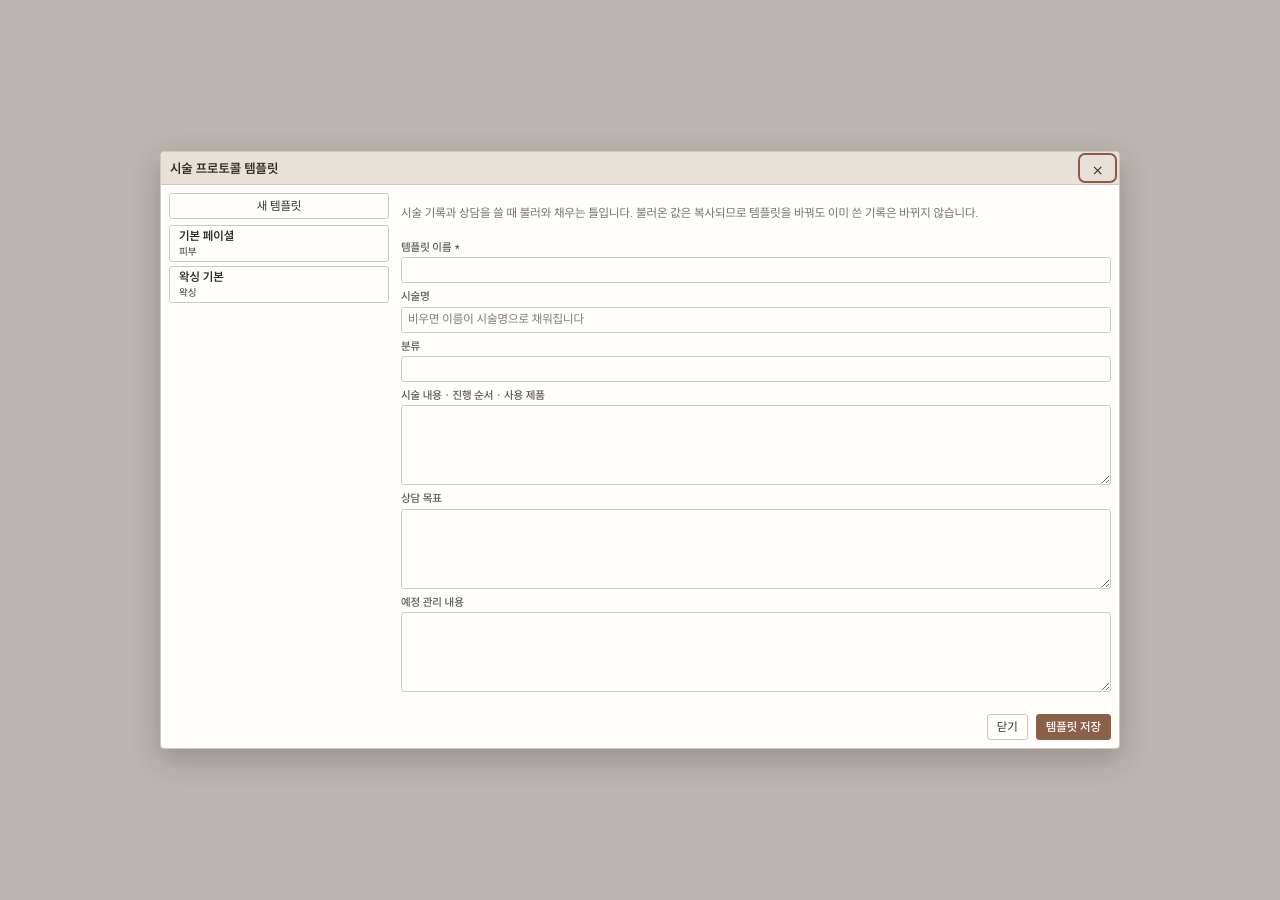
Scenario: TemplateManagerDialog (TRT-12) › 목록을 보여 주고 고르면 폼이 채워진다
Click the button "왁싱 기본 왁싱": x=279, y=284 [169,266,389,302]
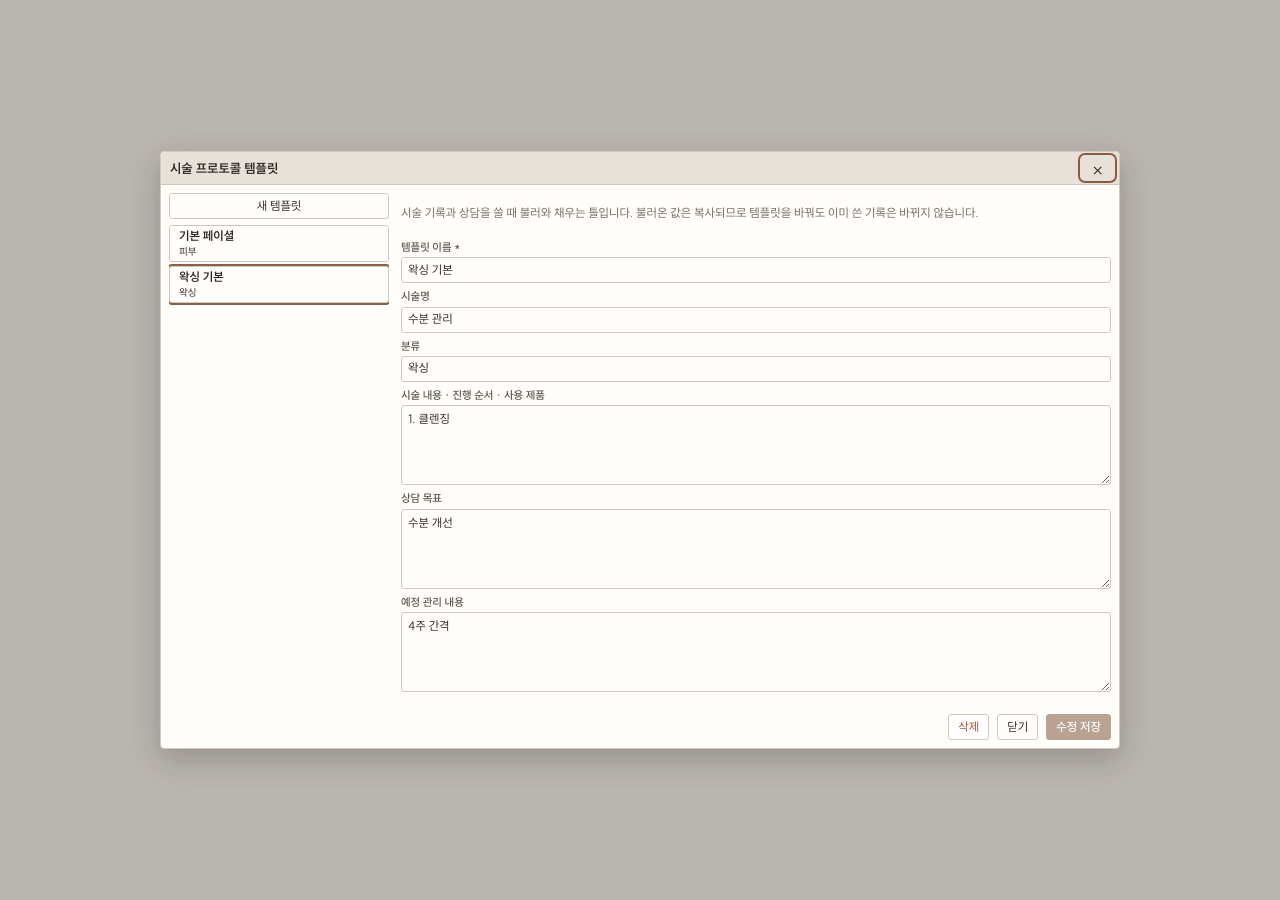
Result: the field labelled "템플릿 이름 *" holds "왁싱 기본" at [401,257,1111,283]
Result: the field labelled "분류" holds "왁싱" at [401,356,1111,382]
Result: the form named "템플릿 수정" is shown at [401,193,1111,740]
